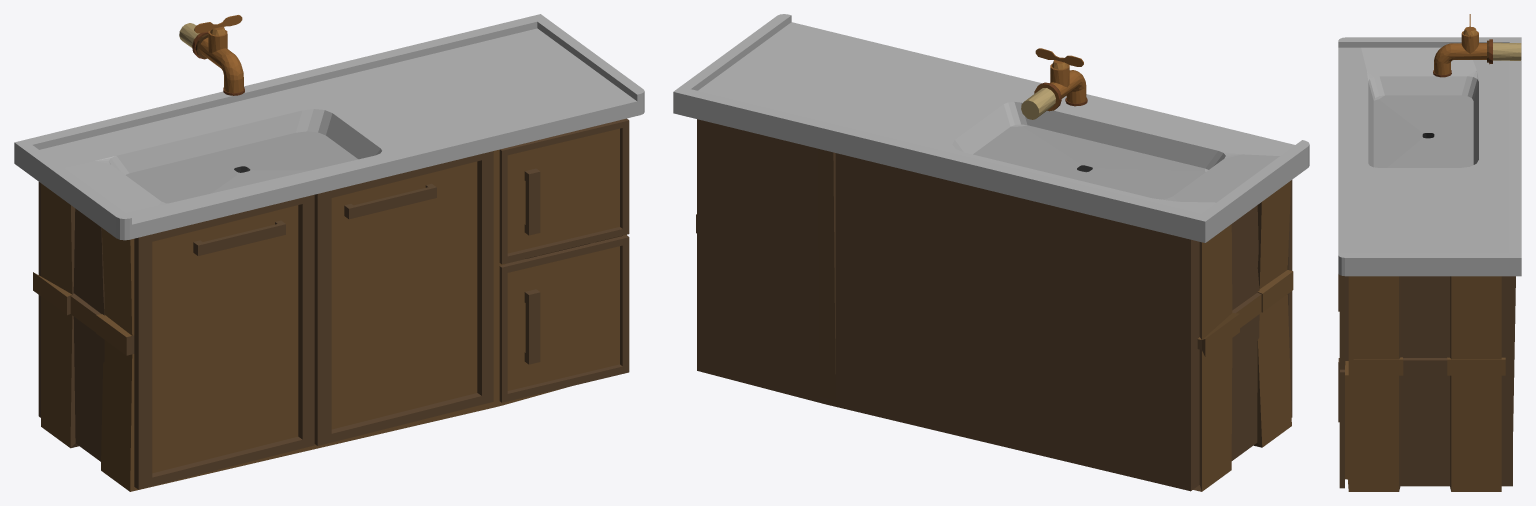
Rendered from pia.fbx.
The picture shows the model from 3 angles, left to right: view 1: azimuth 30°, elevation 25°; view 2: azimuth 150°, elevation 25°; view 3: azimuth 270°, elevation 25°; orthographic projection. The views are drawn at different scales.
Parts seen in each view (by area): view 1: pia, porta armario.002, porta armario.003, armario1.002, porta armario.005, porta armario.004, torneira; view 2: armario1.002, pia, torneira, porta armario.002; view 3: pia, armario1.002, torneira, porta armario.005, porta armario.004.
Boxes of the visible parts, x1=… form: pia: x1=14, y1=14, x2=644, y2=240; porta armario.002: x1=134, y1=194, x2=314, y2=489; porta armario.003: x1=314, y1=151, x2=493, y2=445; armario1.002: x1=33, y1=149, x2=626, y2=491; porta armario.005: x1=499, y1=235, x2=629, y2=402; porta armario.004: x1=499, y1=118, x2=629, y2=264; torneira: x1=179, y1=15, x2=244, y2=95; armario1.002: x1=696, y1=119, x2=1293, y2=491; pia: x1=673, y1=14, x2=1309, y2=242; torneira: x1=1021, y1=48, x2=1087, y2=119; porta armario.002: x1=1287, y1=180, x2=1292, y2=417; pia: x1=1338, y1=37, x2=1521, y2=276; armario1.002: x1=1347, y1=276, x2=1515, y2=491; torneira: x1=1433, y1=14, x2=1521, y2=77; porta armario.005: x1=1338, y1=358, x2=1348, y2=488; porta armario.004: x1=1338, y1=274, x2=1348, y2=369.
Bounding box in the file's own units: 8781 × 6122 × 3087.
